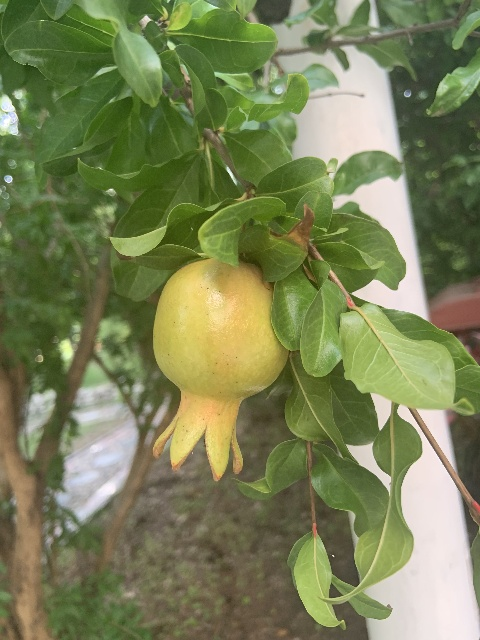mid-growth: (148, 259, 289, 482)
